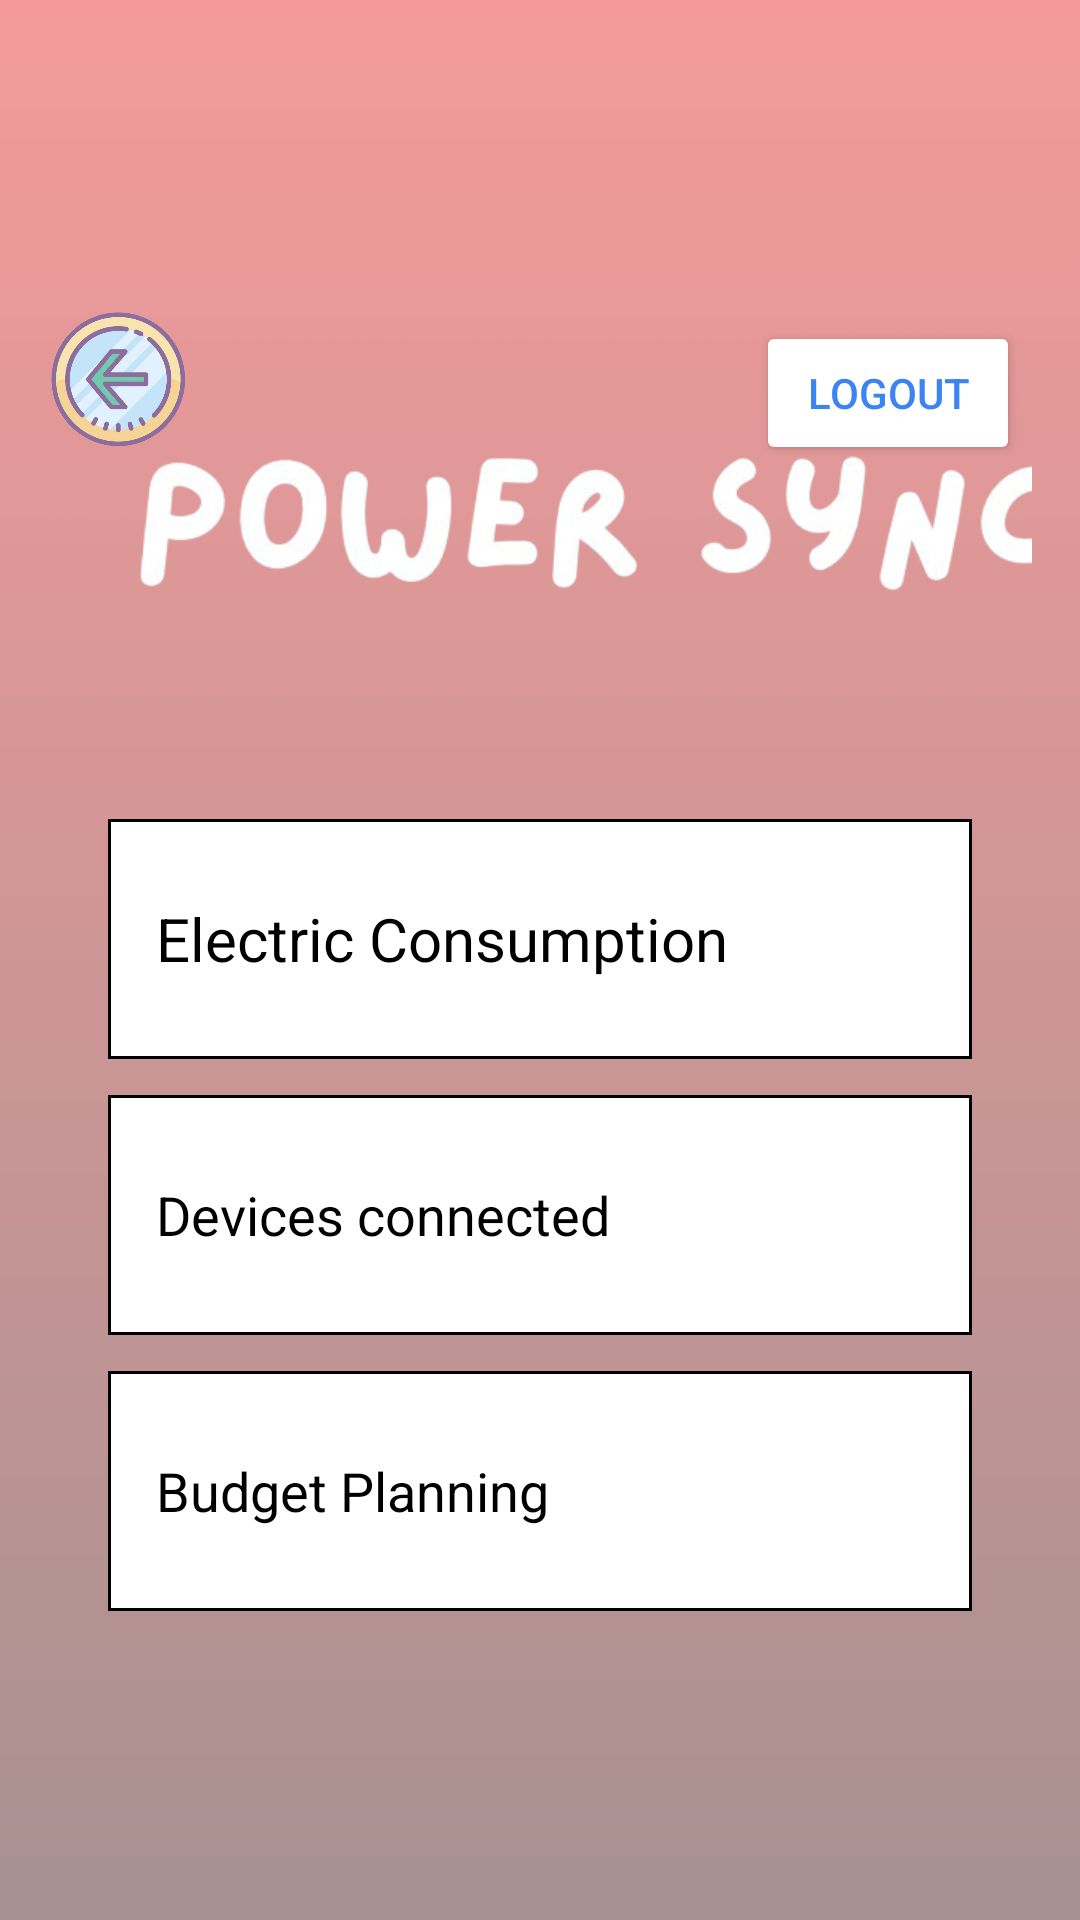

Named icons in this screenshot (1080px x 1920px) and their bounding boxes, (x1, y1, x2, y2):
Back Button: (51, 312, 185, 446)
